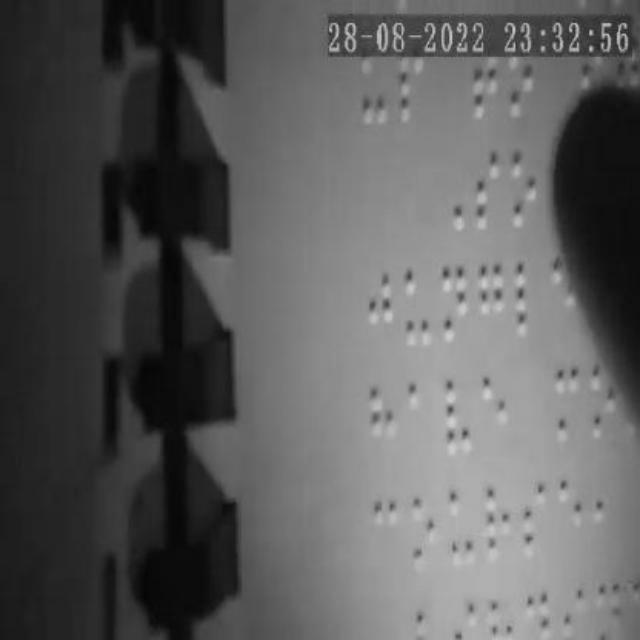braiile: (468, 144, 508, 240), (434, 262, 470, 351), (513, 260, 549, 348), (398, 260, 434, 346), (444, 486, 480, 572), (508, 150, 542, 236), (472, 261, 506, 347), (362, 264, 394, 354), (366, 380, 398, 470), (521, 473, 551, 569), (483, 486, 515, 574), (558, 475, 588, 565), (480, 374, 510, 462), (407, 494, 439, 576), (442, 376, 474, 456), (406, 377, 438, 455), (554, 362, 584, 442), (369, 496, 399, 576), (594, 473, 624, 549)
